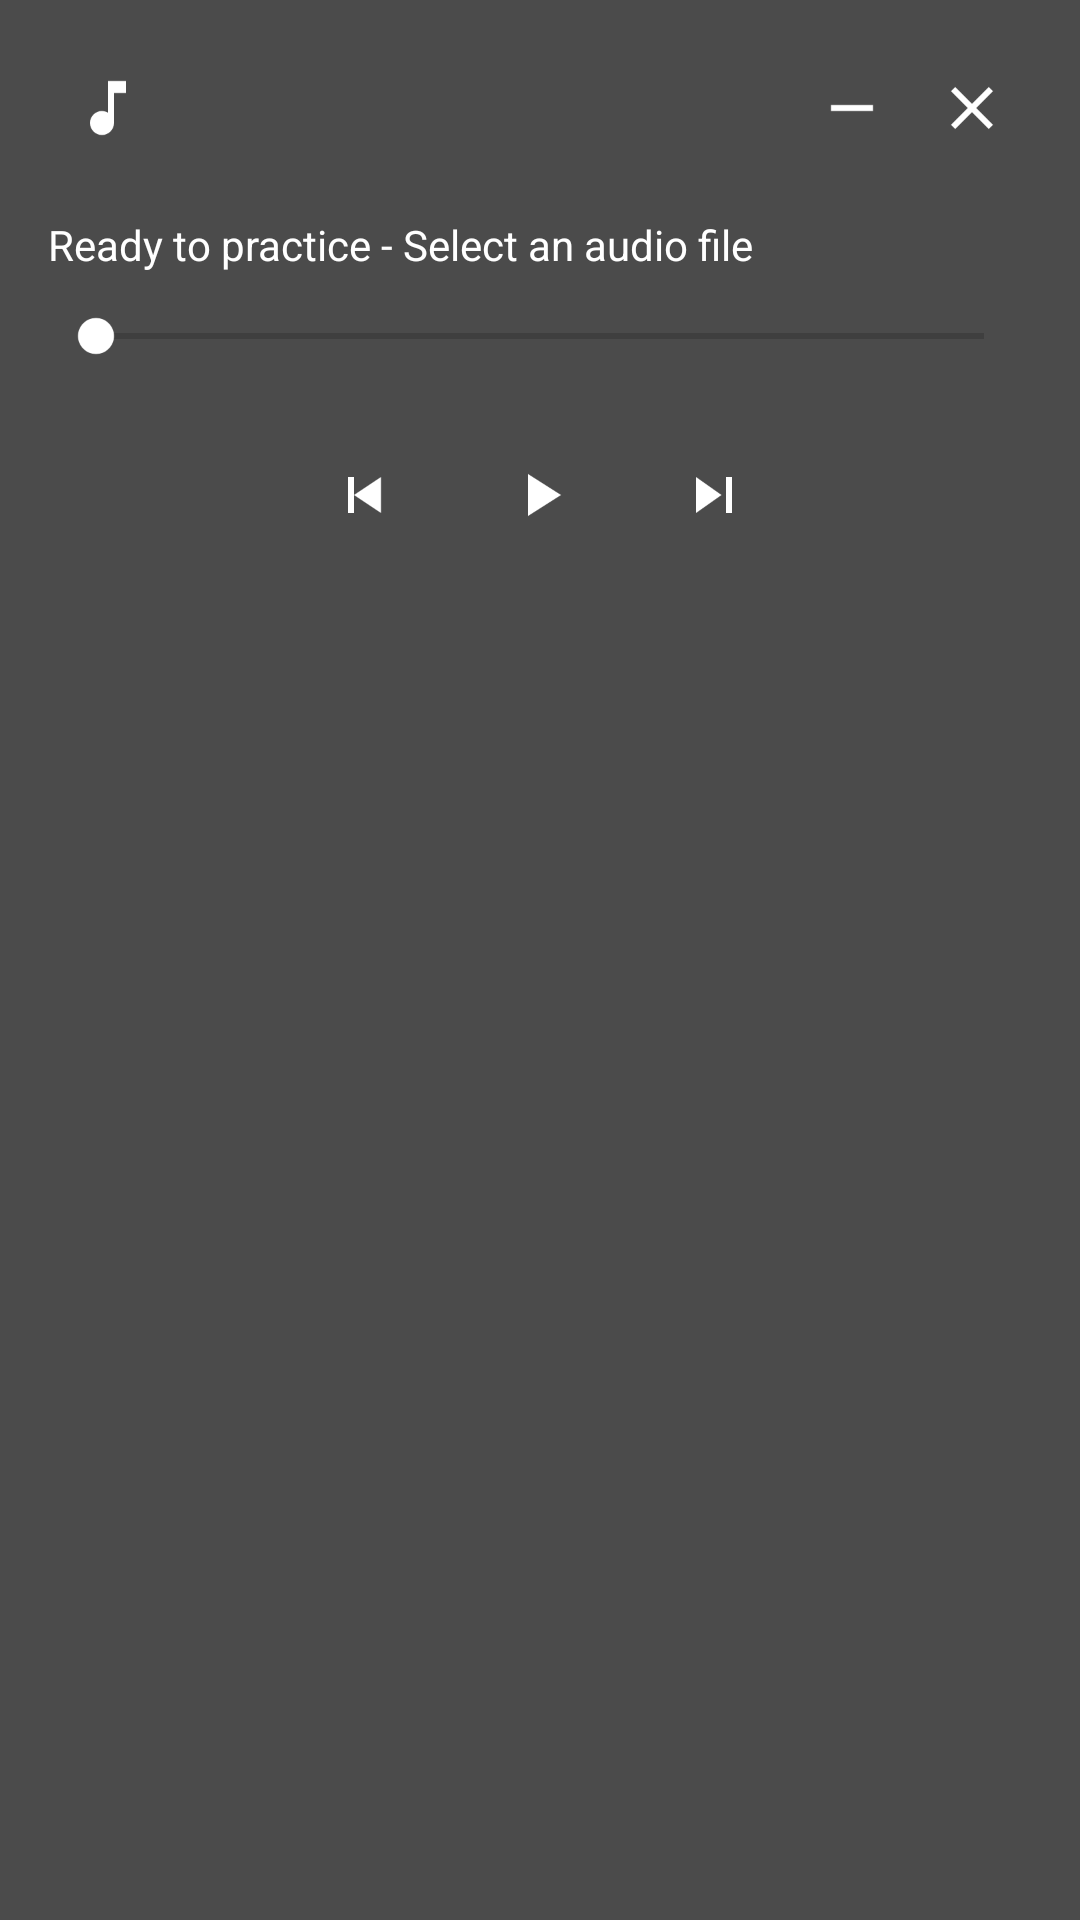

Icons on this 1080px x 1920px Android screen, each with the point to tap as (x=x, y=y):
Close player: (x=972, y=108)
Next: (x=714, y=495)
Play/Pause: (x=544, y=495)
Previous: (x=364, y=495)
